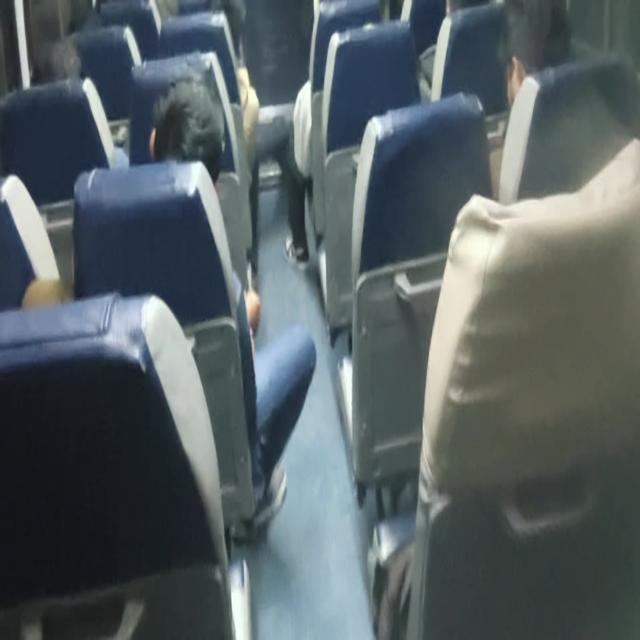person: (490, 0, 546, 112), (150, 93, 222, 177), (9, 38, 89, 100), (187, 0, 244, 61), (51, 0, 122, 31), (428, 0, 489, 18)
